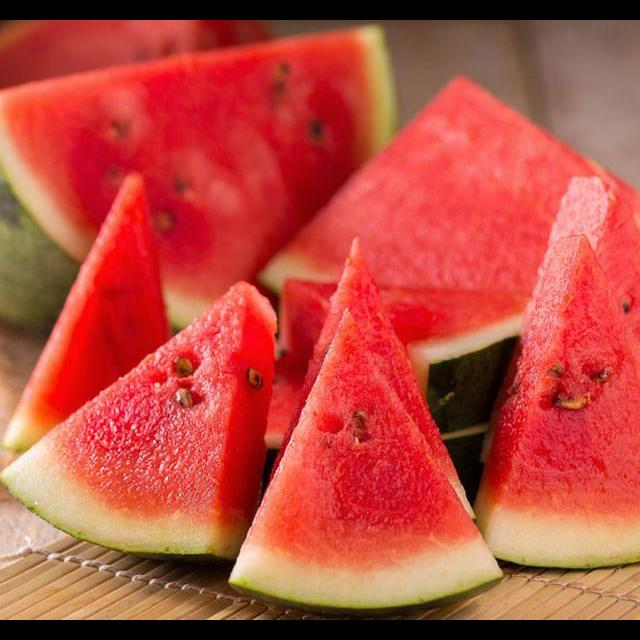watermelon: (255, 71, 640, 430), (0, 22, 397, 333), (229, 307, 502, 610), (0, 278, 279, 557), (270, 234, 476, 524), (472, 229, 640, 567), (0, 168, 177, 453), (0, 20, 273, 108)
